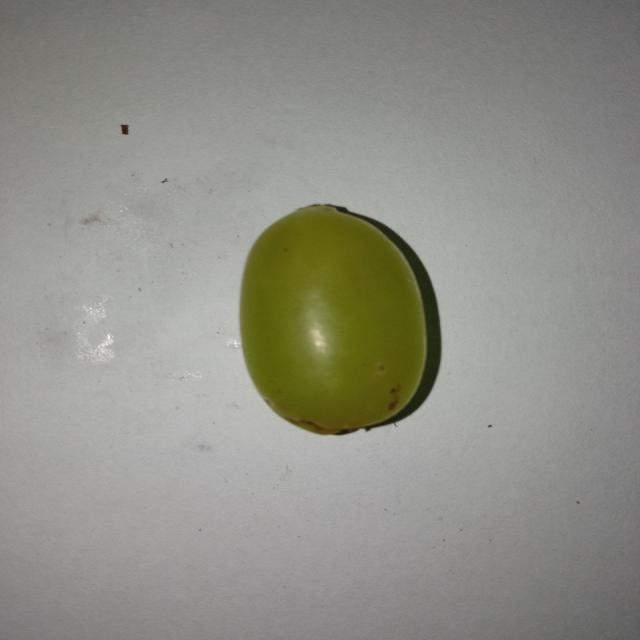fresh_grape: (240, 205, 429, 437)
